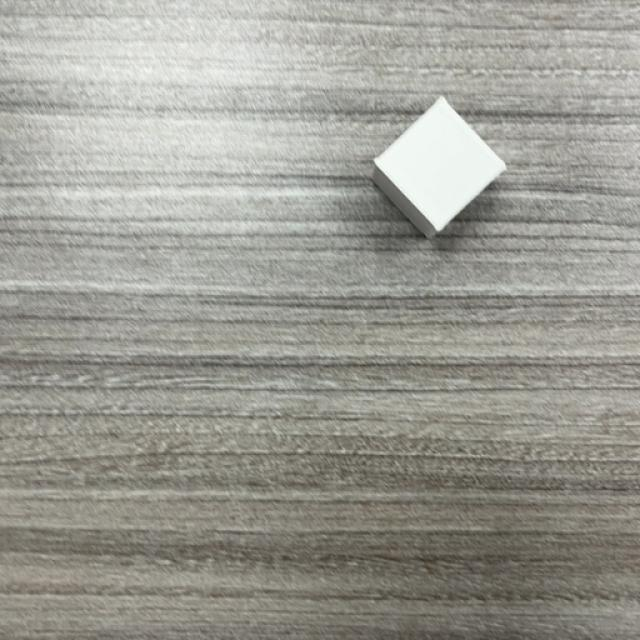Blanco: (371, 98, 506, 239)
